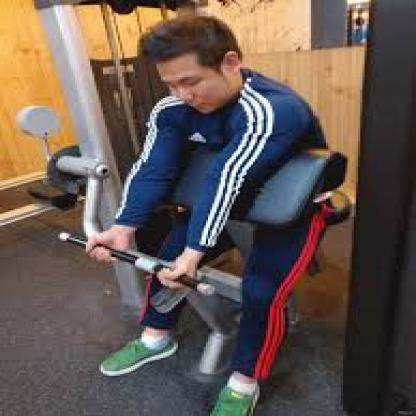arm curl machine: (29, 148, 353, 385)
